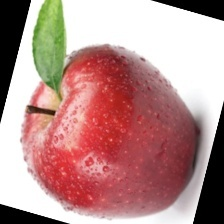apple: (47, 20, 208, 209)
